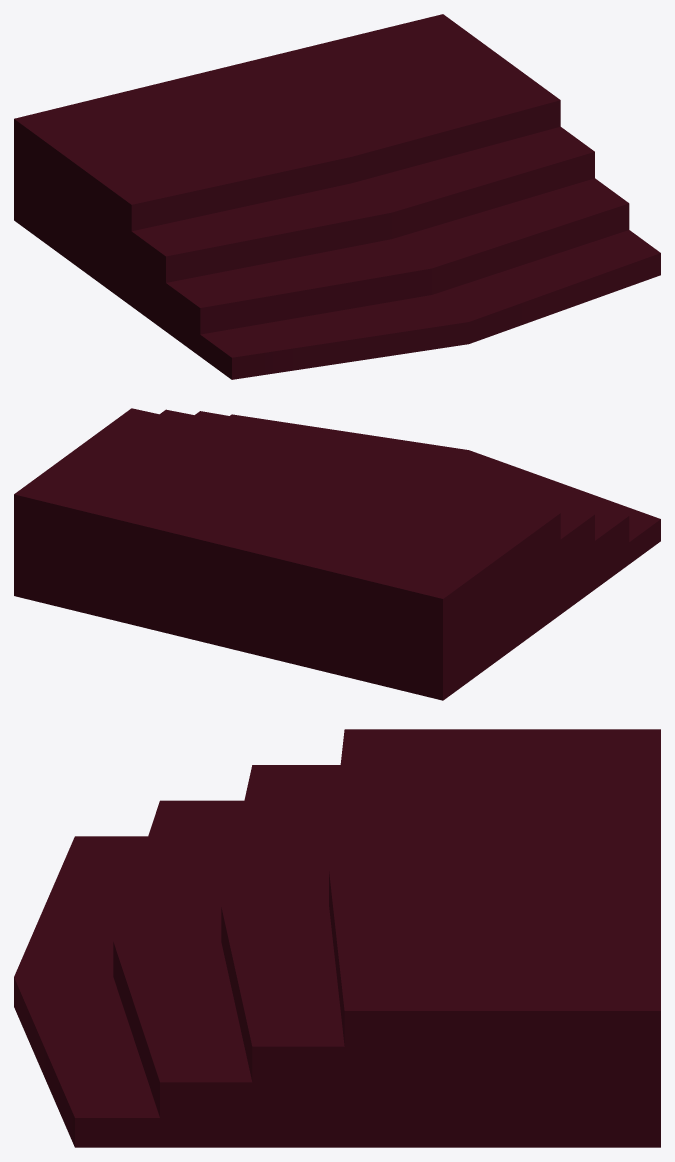
Rendered from Stair.fbx.
3 views of the same model, one above another, from view 1: azimuth 30°, elevation 25°; view 2: azimuth 150°, elevation 25°; view 3: azimuth 270°, elevation 25° (orthographic). The views are drawn at different scales.
Parts seen in each view (by area): view 1: Stair; view 2: Stair; view 3: Stair.
Part boxes in pixels (bbox=[...]): Stair: bbox=[14, 14, 660, 379]; Stair: bbox=[14, 408, 660, 700]; Stair: bbox=[14, 729, 660, 1147].
Size of the model in its own units: 25.62 by 5.8 by 24.87.
